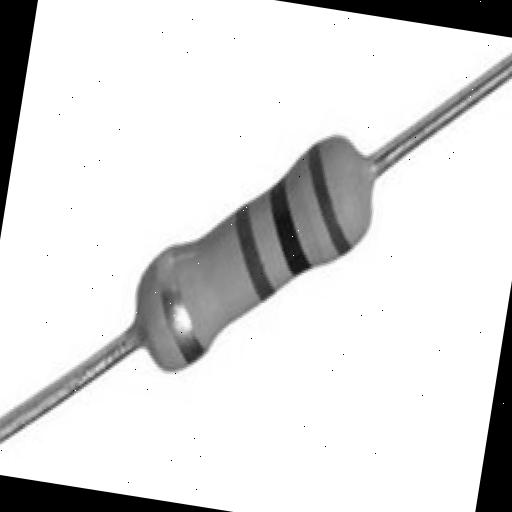RESISTOR: (81, 68, 420, 434)
